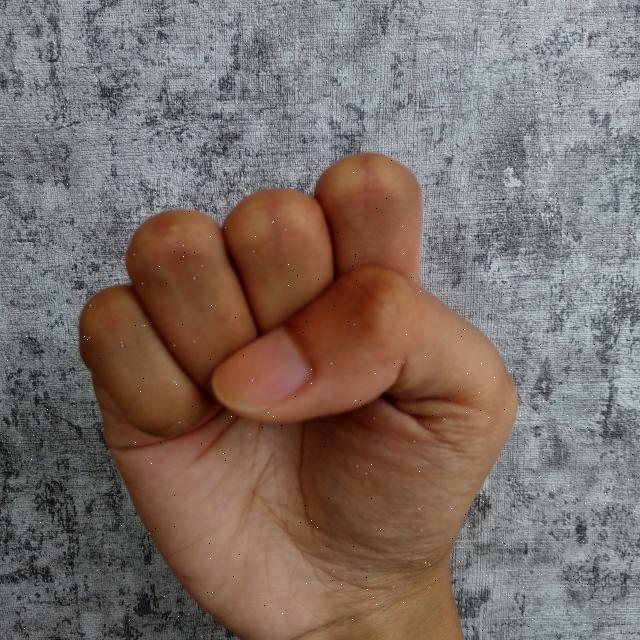S: (71, 138, 523, 640)
